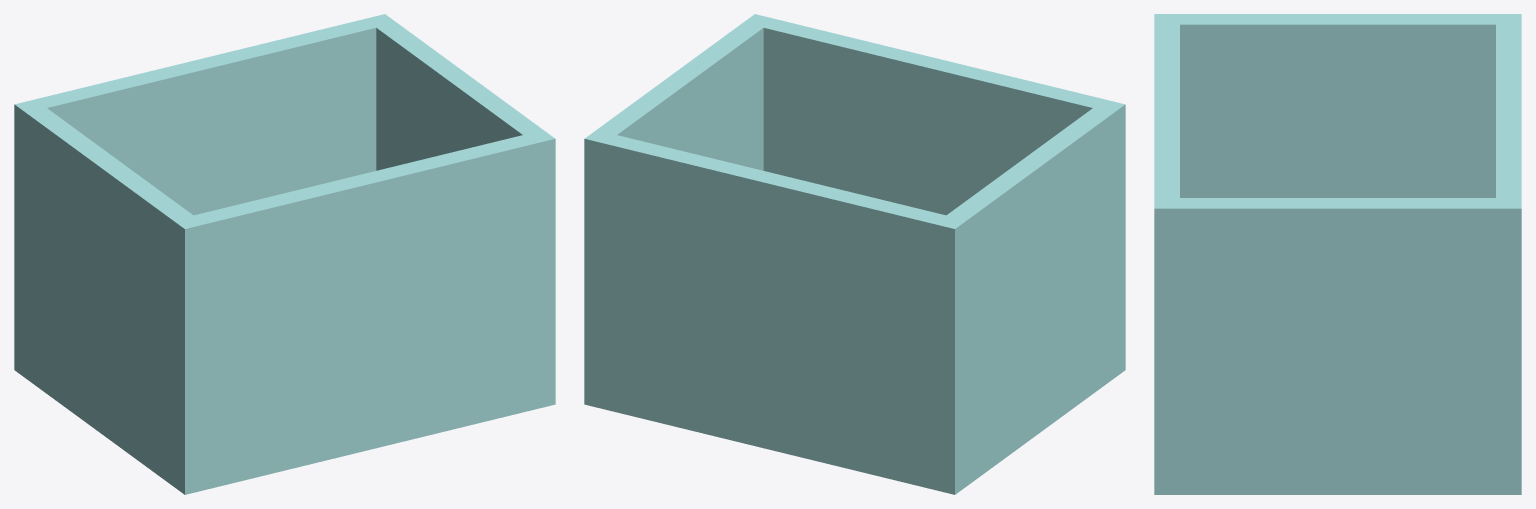
The model's file is container.obj.
3 views of the same model, side by side, from view 1: azimuth 30°, elevation 25°; view 2: azimuth 150°, elevation 25°; view 3: azimuth 270°, elevation 25° (orthographic). The views are drawn at different scales.
Size of the model in its own units: 0.9 by 0.6169 by 0.7169.
